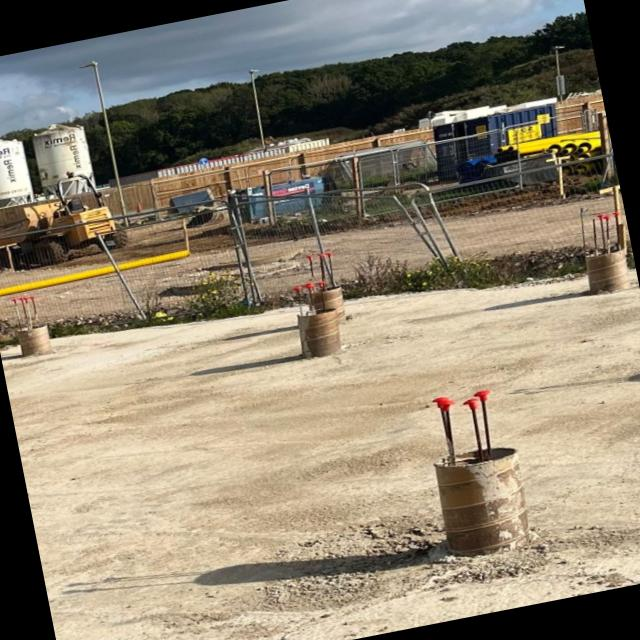white-sand: (0, 272, 640, 640)
